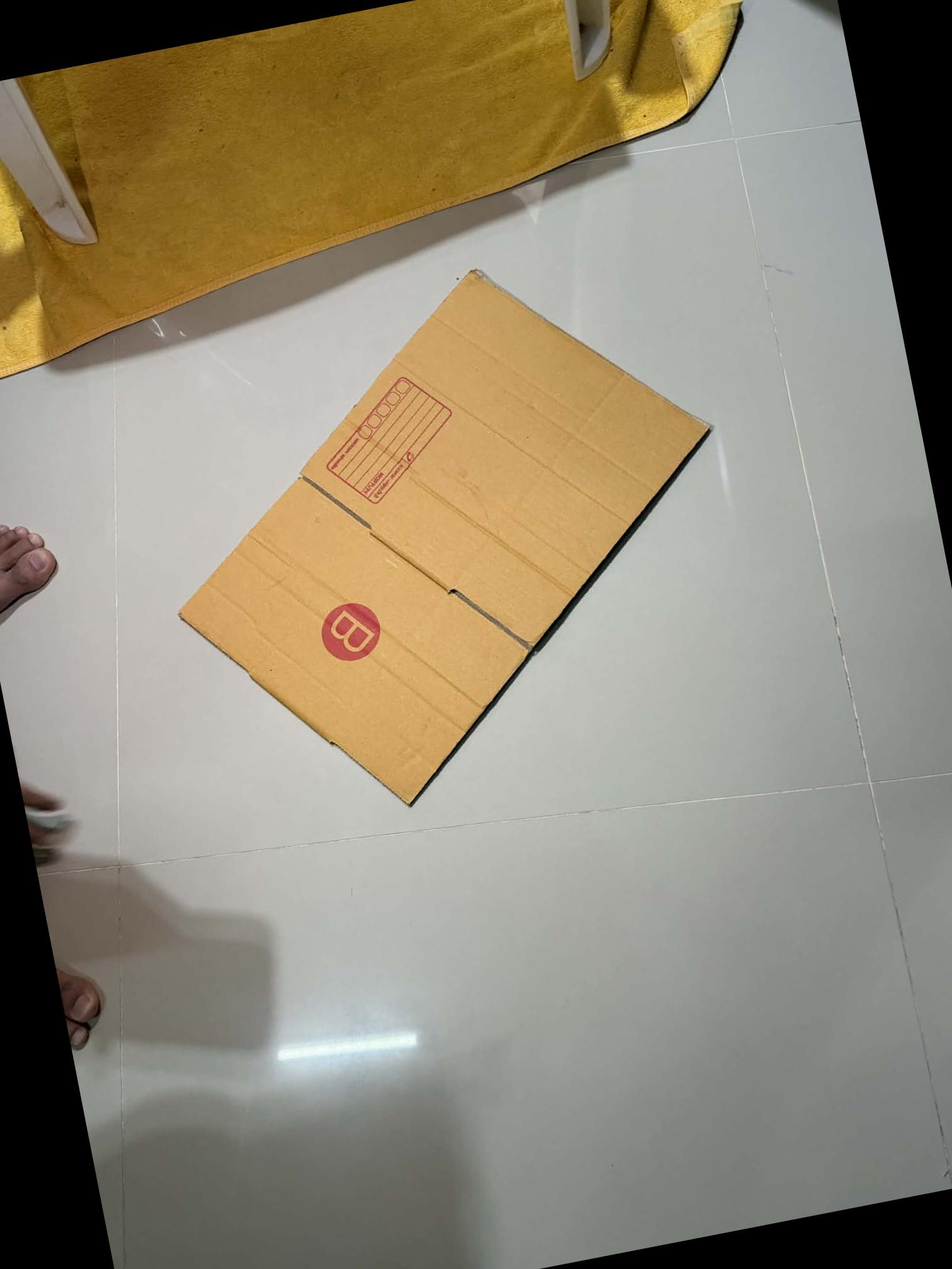box: (308, 364, 469, 515), (313, 593, 388, 667)
class0: (116, 228, 780, 857)
